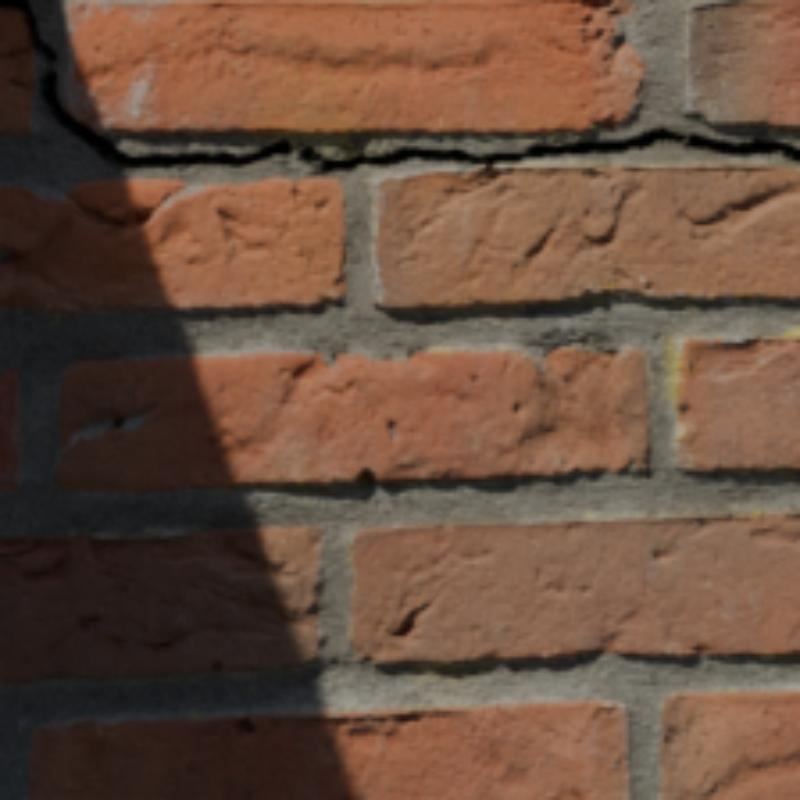pothole: (0, 0, 796, 171)
